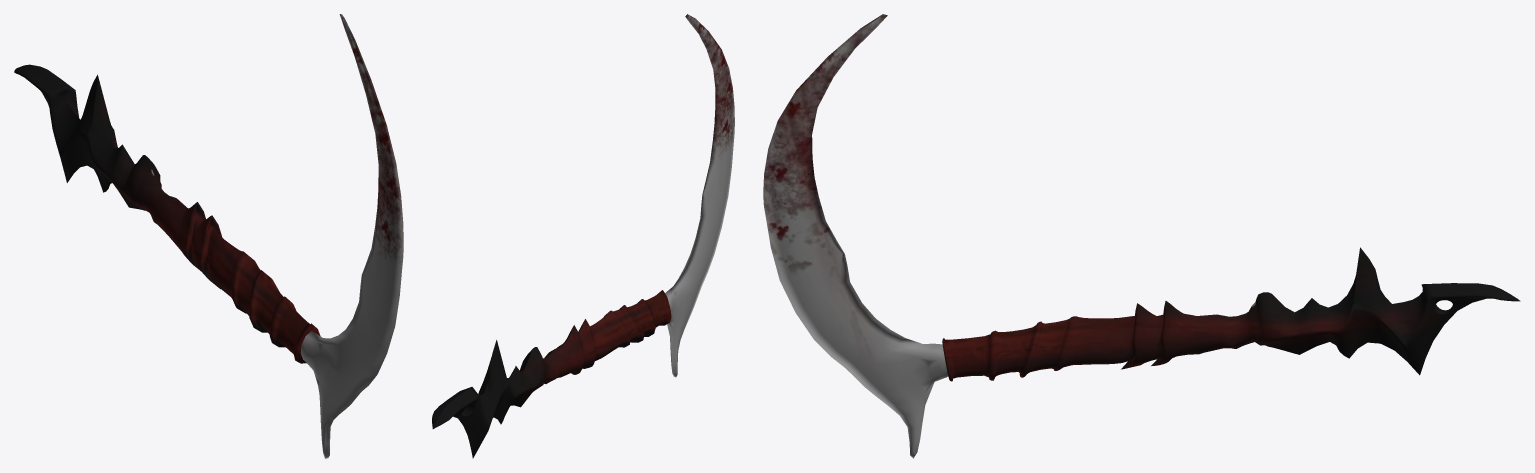
Rendered from kama.glb.
The picture shows the model from 3 angles, left to right: view 1: azimuth 30°, elevation 25°; view 2: azimuth 150°, elevation 25°; view 3: azimuth 270°, elevation 25°; orthographic projection. The views are drawn at different scales.
Visible parts, largest first — view 1: kama; view 2: kama; view 3: kama.
Boxes of the visible parts, left/top/right/bottom form: kama: left=14, top=14, right=403, bottom=458; kama: left=432, top=14, right=734, bottom=458; kama: left=763, top=14, right=1520, bottom=458.
Size of the model in its own units: 0.0445 by 0.5175 by 0.8.
Materials: 1 (1 with a texture image).
